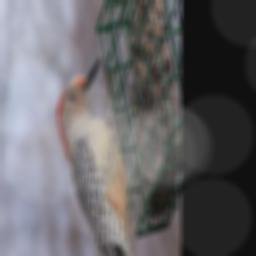Woodpecker: (56, 58, 142, 256)
